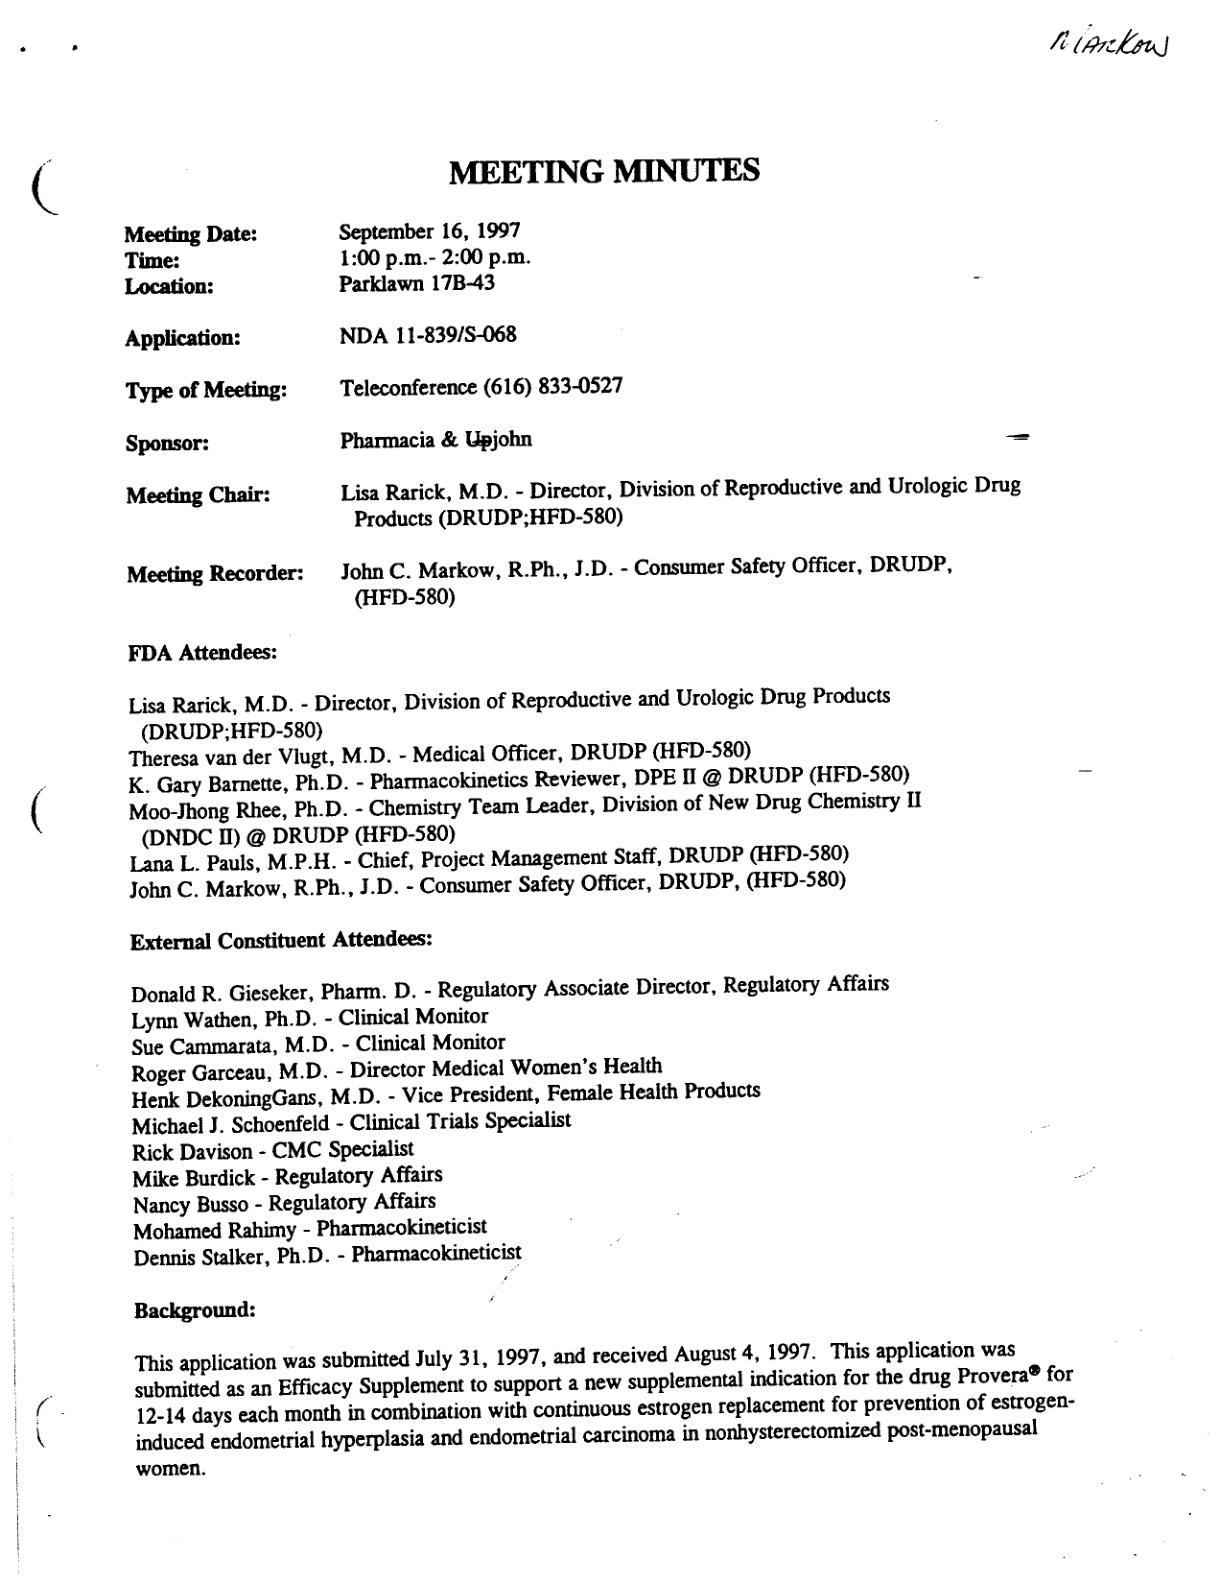nolines: (119, 213, 1023, 608)
